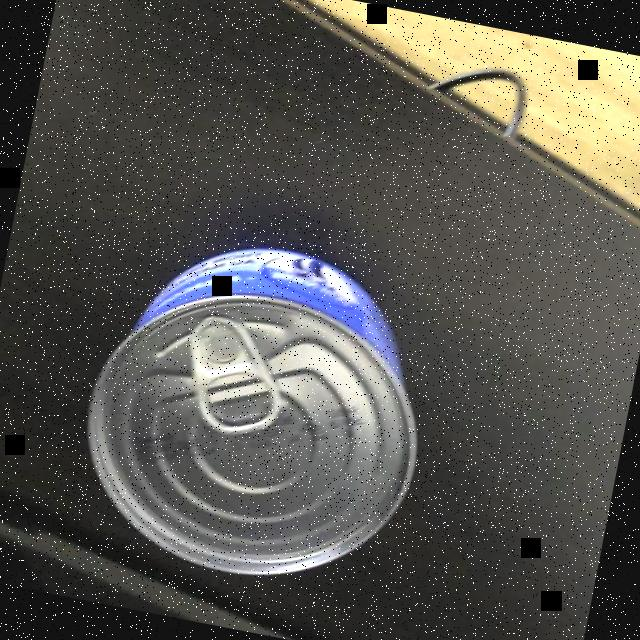can: (57, 212, 454, 609)
